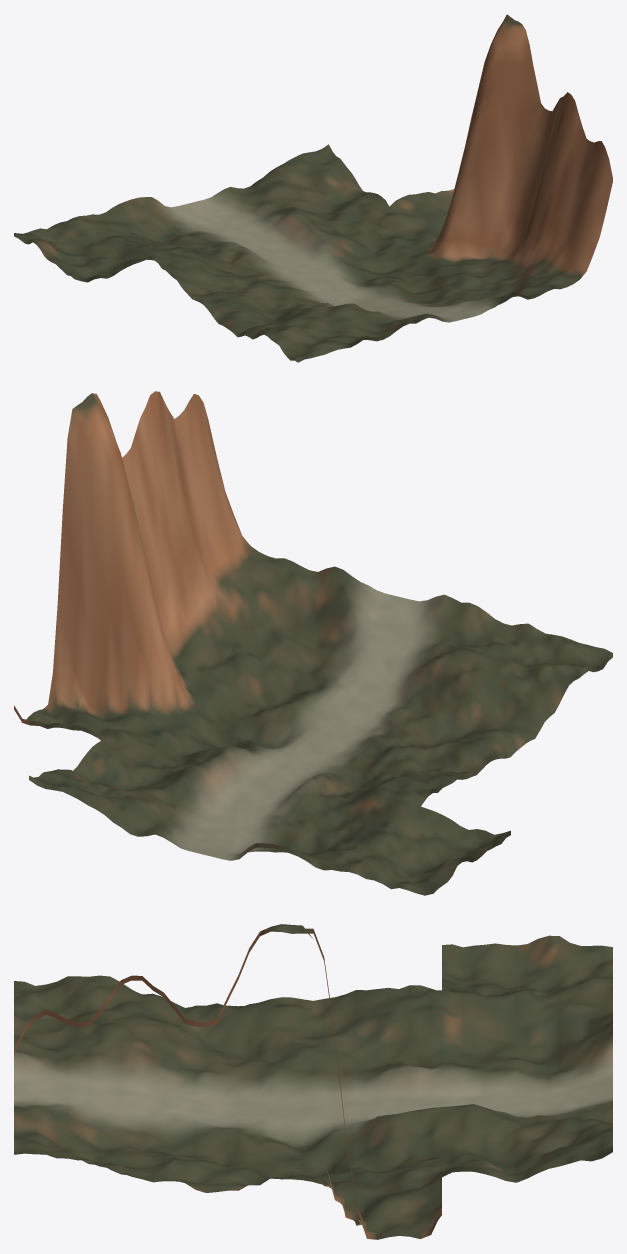
Rendered from terrain-040.glb.
The picture shows the model from 3 angles, top to bottom: view 1: azimuth 30°, elevation 25°; view 2: azimuth 150°, elevation 25°; view 3: azimuth 270°, elevation 25°; orthographic projection. The views are drawn at different scales.
Parts seen in each view (by area): view 1: terrain-040; view 2: terrain-040; view 3: terrain-040.
Part boxes in pixels (left/top/right/bottom): terrain-040: left=14, top=14, right=612, bottom=362; terrain-040: left=14, top=391, right=612, bottom=895; terrain-040: left=14, top=924, right=612, bottom=1239.
Bounding box in the file's own units: 472 × 272 × 448.
